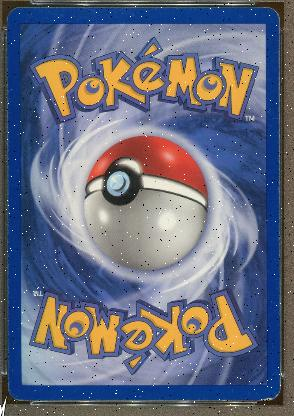Card: (4, 4, 282, 404), (7, 78, 8, 374)
Corner Wear: (254, 377, 280, 401), (6, 378, 30, 402), (269, 7, 281, 31)
Edge Wear: (276, 35, 280, 327), (142, 398, 255, 400)
Scratch: (27, 12, 34, 20), (266, 107, 273, 115), (262, 219, 267, 221)
